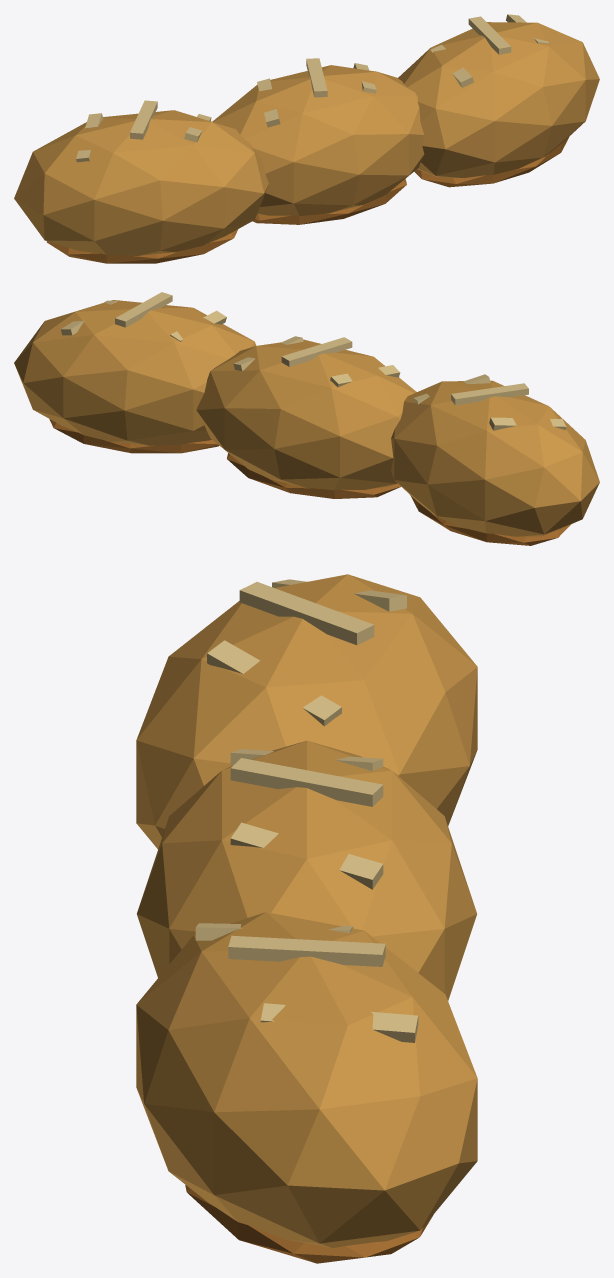
Rendered from pile-bread-3.gltf.
3 views of the same model, one above another, from view 1: azimuth 30°, elevation 25°; view 2: azimuth 150°, elevation 25°; view 3: azimuth 270°, elevation 25° (orthographic). The views are drawn at different scales.
Parts seen in each view (by area): view 1: pile-bread-3; view 2: pile-bread-3; view 3: pile-bread-3.
Part boxes in pixels (<box>): pile-bread-3: <box>14,14,599,263</box>; pile-bread-3: <box>14,292,599,545</box>; pile-bread-3: <box>136,574,477,1263</box>.
Size of the model in its own units: 0.8843 by 0.2025 by 0.2306.
